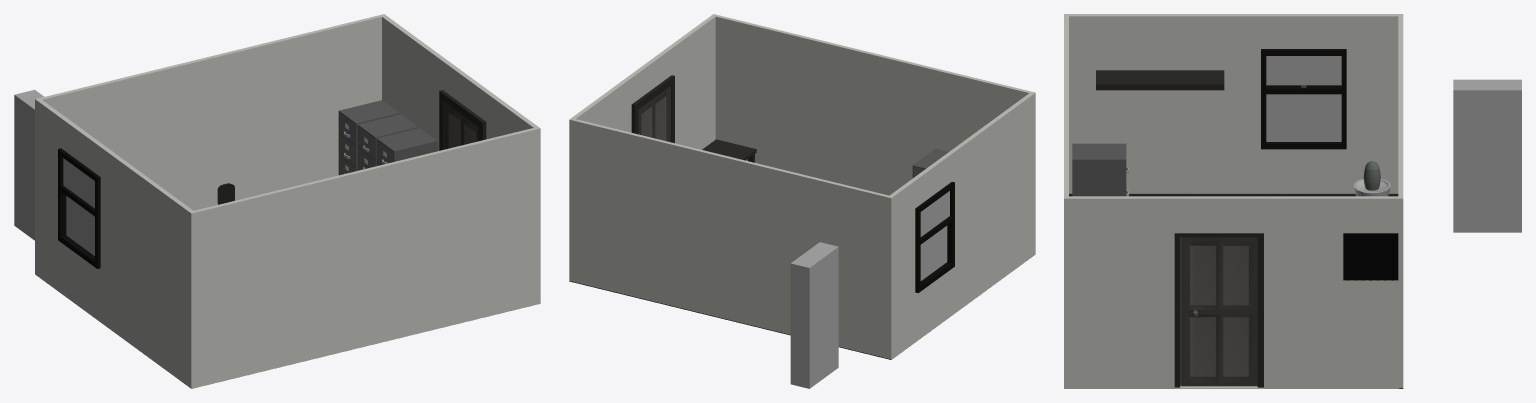
File: RoomNew.fbx
3 views of the same model, side by side, from view 1: azimuth 30°, elevation 25°; view 2: azimuth 150°, elevation 25°; view 3: azimuth 270°, elevation 25° (orthographic). The views are drawn at different scales.
Visible parts, largest first — view 1: Room, person, WindowFrame, FilingCabinet3, FilingCabinet1, FilingCabinet2, BottomGlass, Door, TopGlass, DoorFrame; view 2: Room, person, WindowFrame, Door, BottomGlass, DoorFrame, TopGlass, SmallTable, FilingCabinet; view 3: Room, Door, person, BottomGlass, WindowFrame, FilingCabinet, Shelf, DoorFrame, TopGlass, Bin, Cactus1.
Part boxes in pixels (x1,y1,x2,y2): Room: (35,14,540,388); person: (14,89,44,240); WindowFrame: (58,148,100,268); FilingCabinet3: (338,100,399,175); FilingCabinet1: (376,128,437,165); FilingCabinet2: (357,114,418,170); BottomGlass: (66,196,94,255); Door: (443,102,478,149); TopGlass: (63,158,94,208); DoorFrame: (439,90,486,150); Room: (569,14,1035,359); person: (790,242,838,388); WindowFrame: (915,182,954,293); Door: (638,86,670,142); BottomGlass: (920,225,947,280); DoorFrame: (631,75,674,143); TopGlass: (920,191,949,236); SmallTable: (702,139,756,162); FilingCabinet: (912,148,948,178); Room: (1064,14,1403,388); Door: (1181,237,1257,386); person: (1453,79,1521,232); BottomGlass: (1266,94,1341,141); WindowFrame: (1261,49,1346,149); FilingCabinet: (1072,143,1126,196); Shelf: (1096,70,1224,90); DoorFrame: (1174,233,1263,387); TopGlass: (1266,56,1341,85); Bin: (1354,178,1390,196); Cactus1: (1363,161,1380,190).
Bounding box in the file's own units: 521 × 246 × 534.
